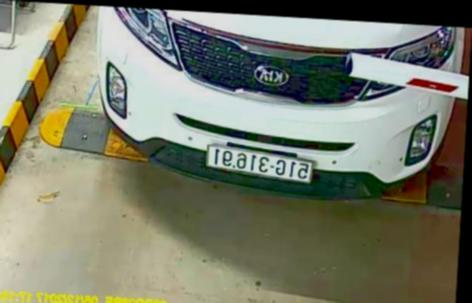License_Plate: (205, 149, 312, 179)
